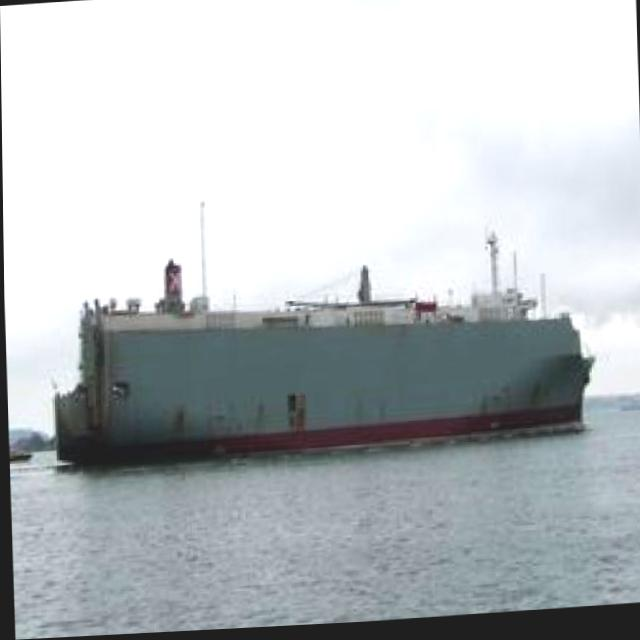ship2: (50, 205, 592, 471)
